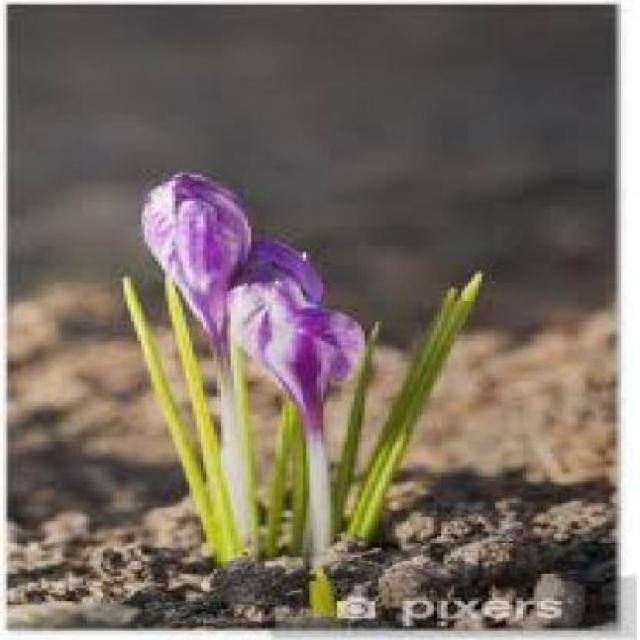Flower: (223, 239, 359, 421), (141, 165, 254, 343)
